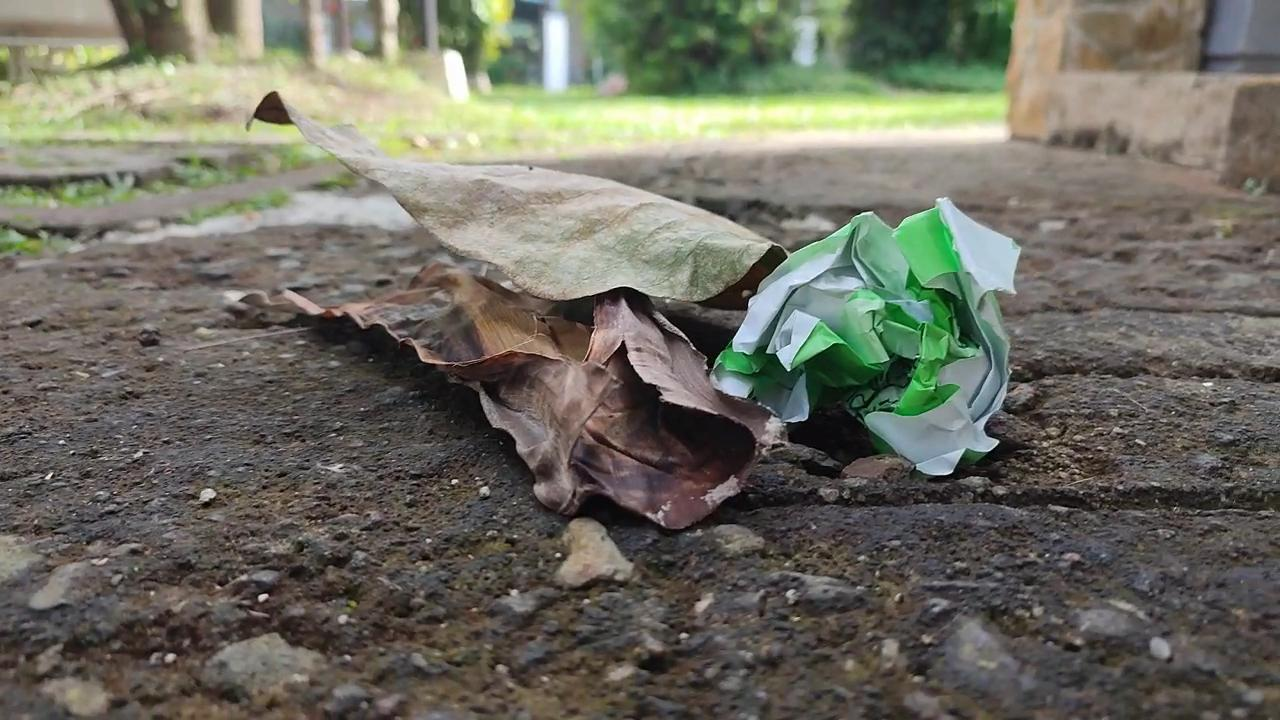Paper: (681, 182, 1043, 484)
